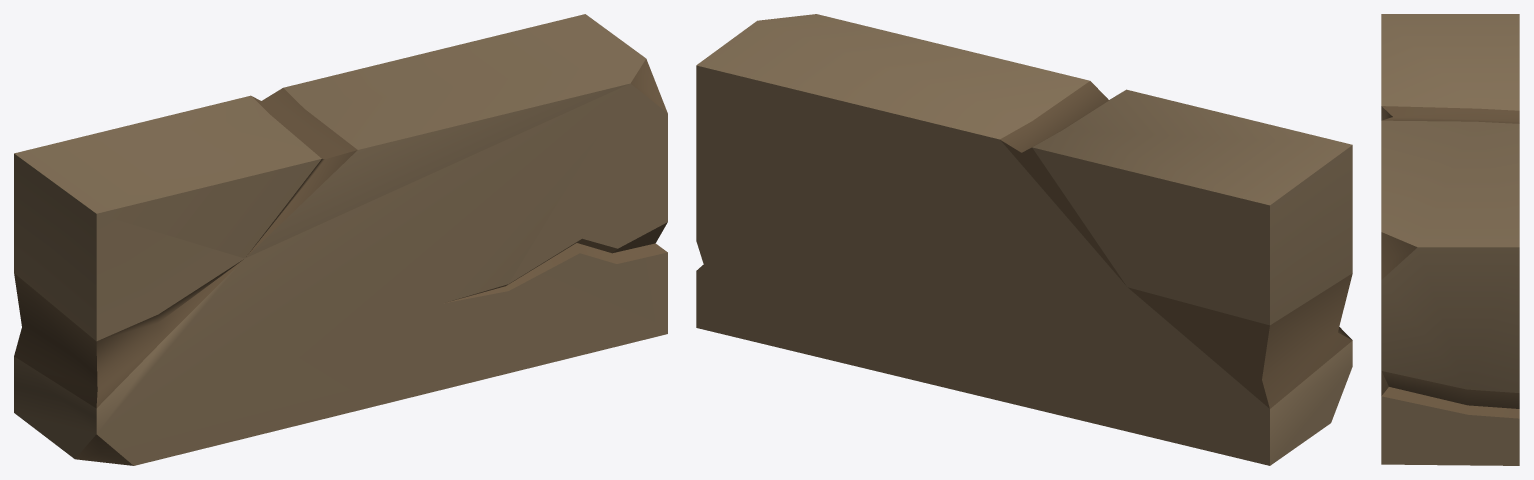
Rendered from Pared-Baja-Agua-2.FBX.
The picture shows the model from 3 angles, left to right: view 1: azimuth 30°, elevation 25°; view 2: azimuth 150°, elevation 25°; view 3: azimuth 270°, elevation 25°; orthographic projection. The views are drawn at different scales.
Visible parts, largest first — view 1: Pared-Baja-Agua-2; view 2: Pared-Baja-Agua-2; view 3: Pared-Baja-Agua-2.
Part boxes in pixels (x1,y1,x2,y2): Pared-Baja-Agua-2: [14, 14, 667, 465]; Pared-Baja-Agua-2: [696, 14, 1352, 465]; Pared-Baja-Agua-2: [1381, 14, 1519, 465].
Bounding box in the file's own units: 200 × 87.4 × 50.
1 material, 1 textured.
